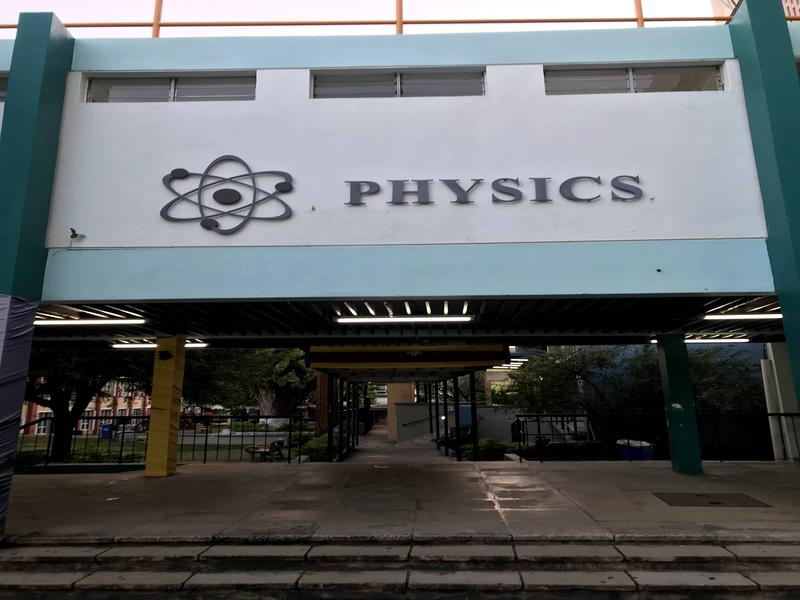18.0053657_-76.7491452_physicssign: (134, 133, 683, 247)
